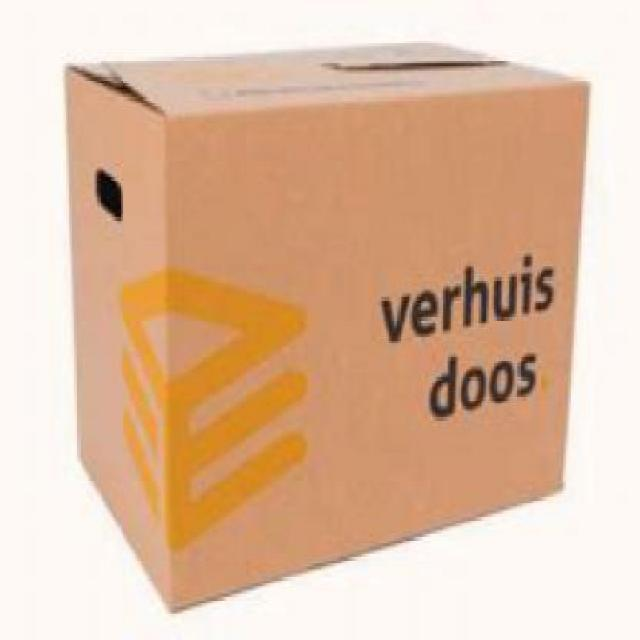box: (59, 40, 595, 610)
